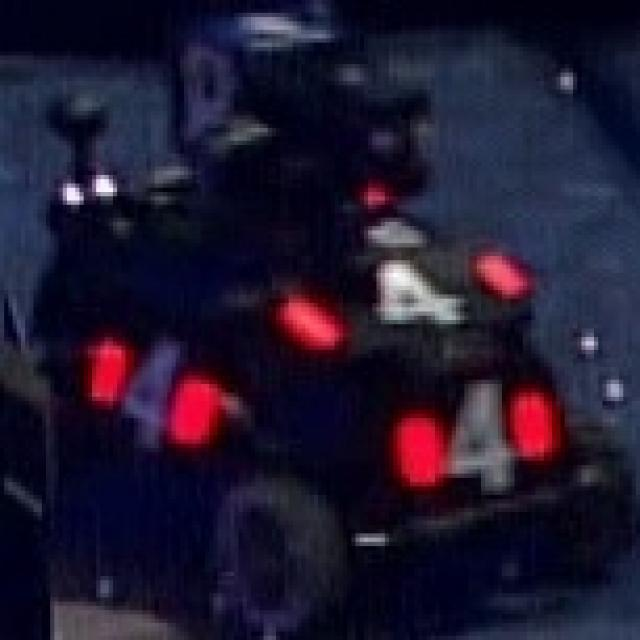R4: (385, 363, 556, 499), (79, 324, 226, 457)
